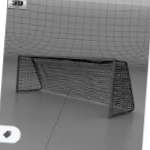goals: (14, 52, 137, 119)
